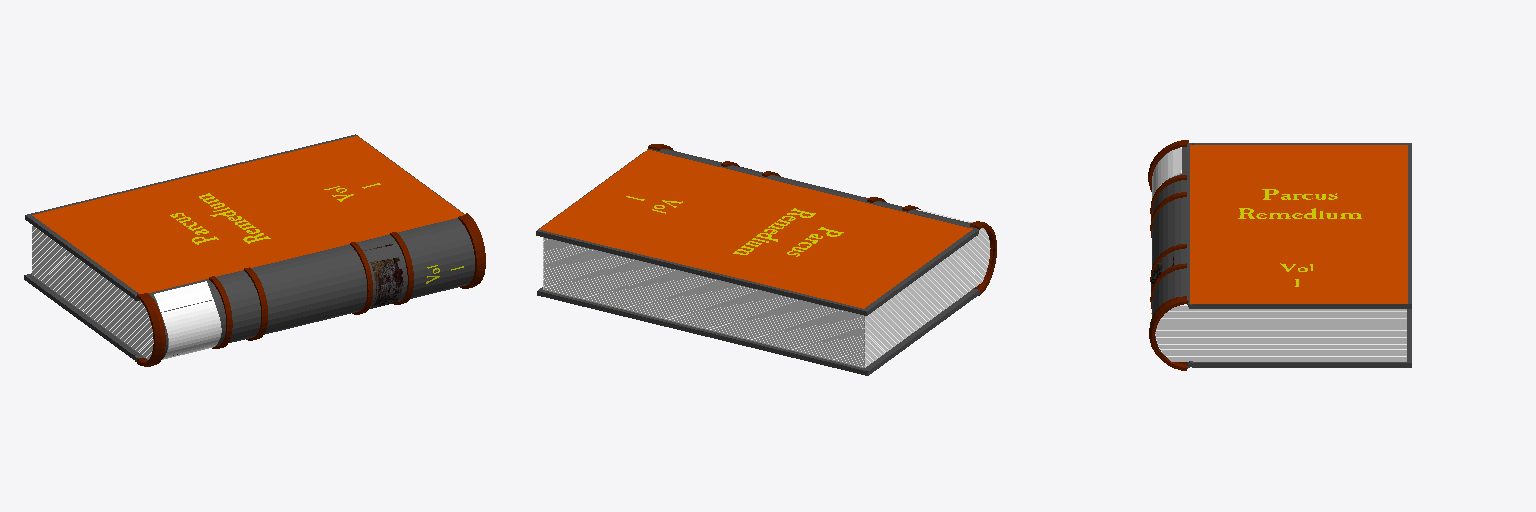
3 renders of one model, left to right at view 1: azimuth 30°, elevation 25°; view 2: azimuth 150°, elevation 25°; view 3: azimuth 270°, elevation 25°, orthographic.
Visible parts, largest first — view 1: obj6, obj3, obj5, obj4, obj2, obj9, obj7; view 2: obj6, obj5, obj3, obj4, obj7; view 3: obj6, obj5, obj3, obj4, obj2, obj7.
Boxes of the visible parts, box(x1,y1,x2,y2) form: obj6: box(32, 136, 464, 293); obj3: box(24, 134, 474, 361); obj5: box(32, 226, 153, 359); obj4: box(137, 213, 485, 366); obj2: box(154, 281, 221, 359); obj9: box(365, 244, 403, 308); obj7: box(170, 193, 270, 244); obj6: box(539, 150, 972, 308); obj5: box(543, 228, 990, 367); obj3: box(536, 149, 979, 375); obj4: box(648, 144, 996, 295); obj7: box(733, 208, 843, 256); obj6: box(1190, 145, 1407, 303); obj5: box(1155, 304, 1406, 361); obj3: box(1152, 142, 1411, 368); obj4: box(1148, 140, 1188, 370); obj2: box(1152, 147, 1181, 197); obj7: box(1238, 189, 1361, 218).
Size of the model in its own units: 10.67 by 2.19 by 7.35.
Materials: 7 (1 with a texture image).